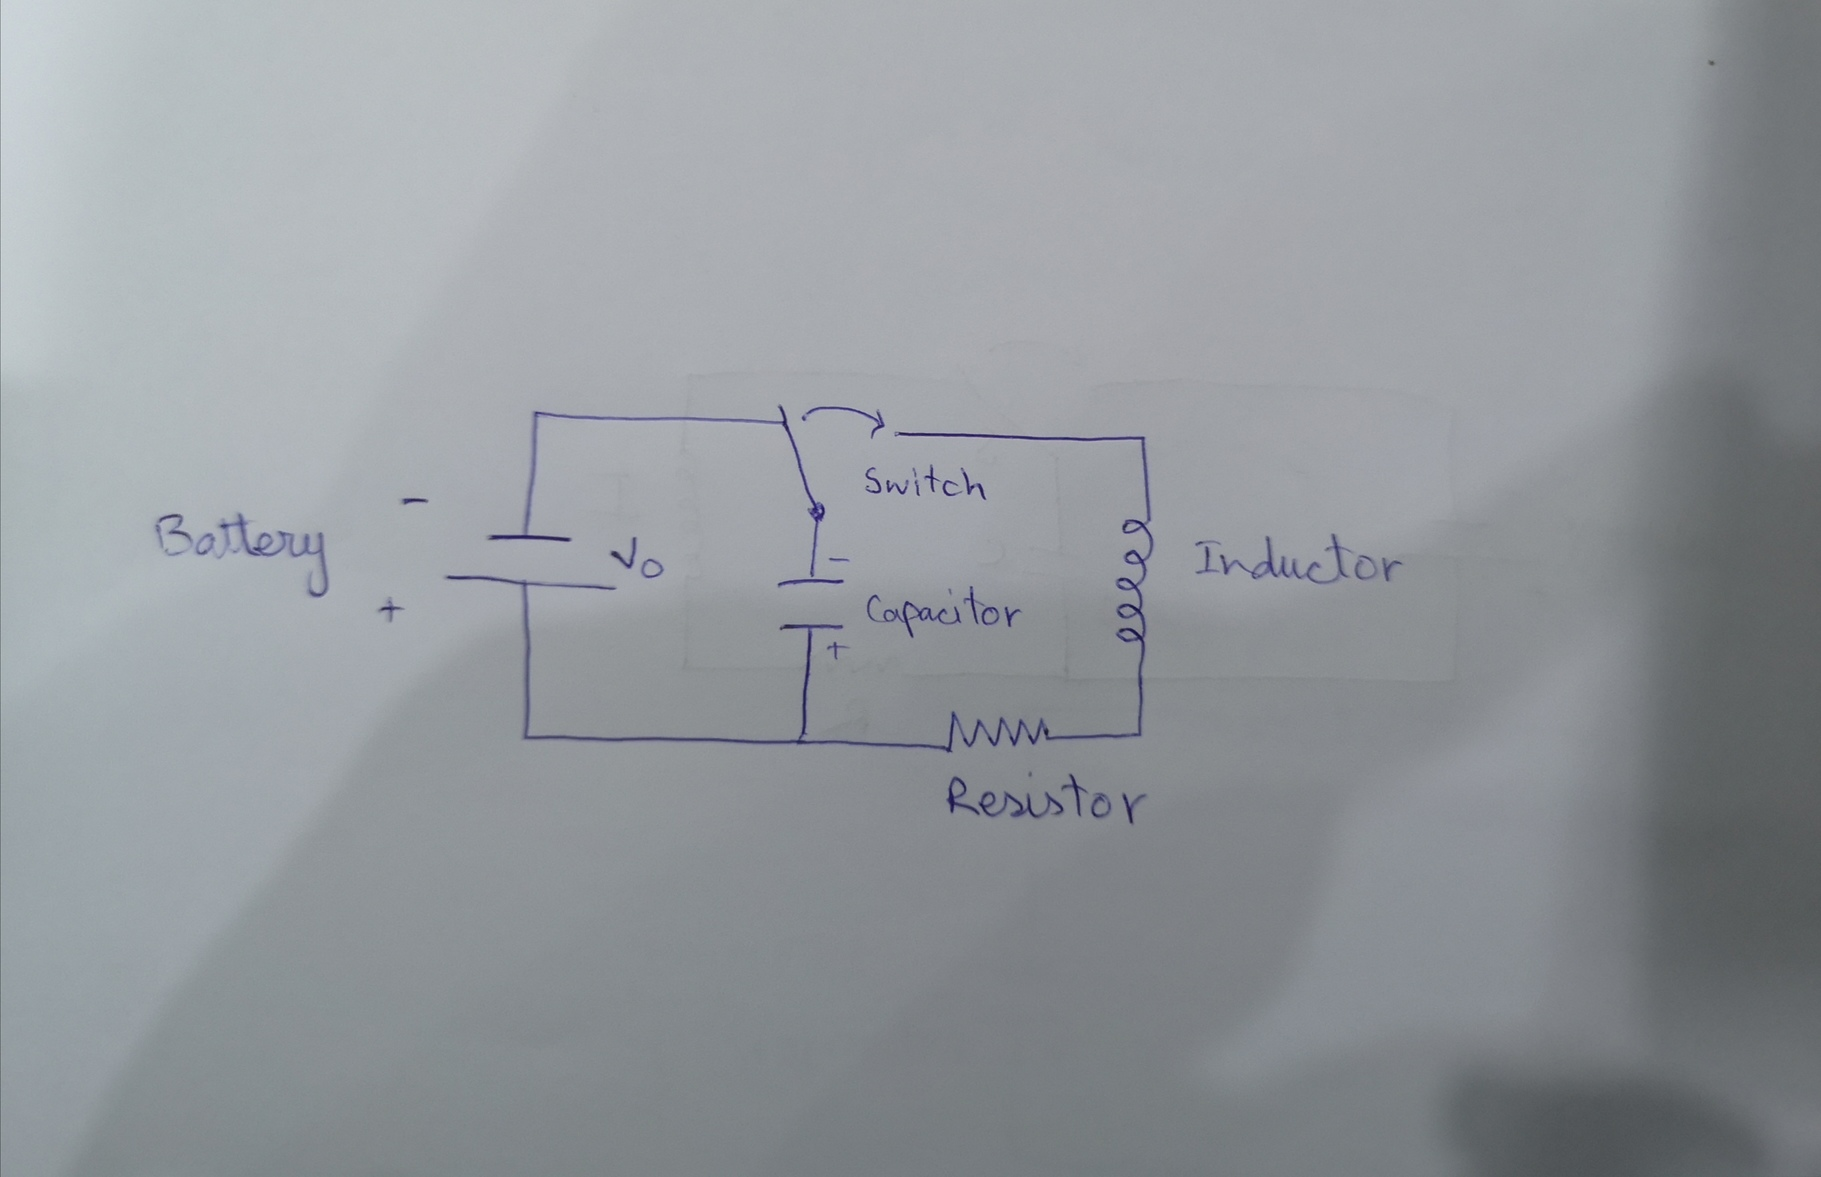capacitor.polarized: (770, 553, 853, 666)
inductor: (1112, 510, 1157, 652)
junction: (788, 727, 814, 751), (524, 403, 548, 427), (1129, 721, 1152, 744), (1129, 429, 1153, 450), (518, 726, 538, 747)
resistor: (938, 706, 1053, 755)
switch: (768, 387, 903, 525)
text: (147, 506, 334, 598), (1189, 529, 1410, 588), (942, 766, 1152, 827), (860, 585, 1025, 641), (859, 460, 990, 503), (611, 535, 668, 580)
voltage.dc: (439, 528, 622, 597)
